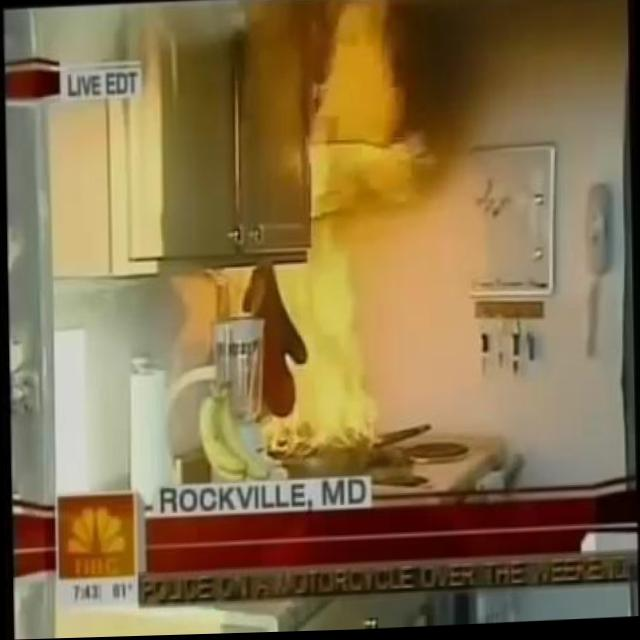fire: (240, 0, 441, 464)
